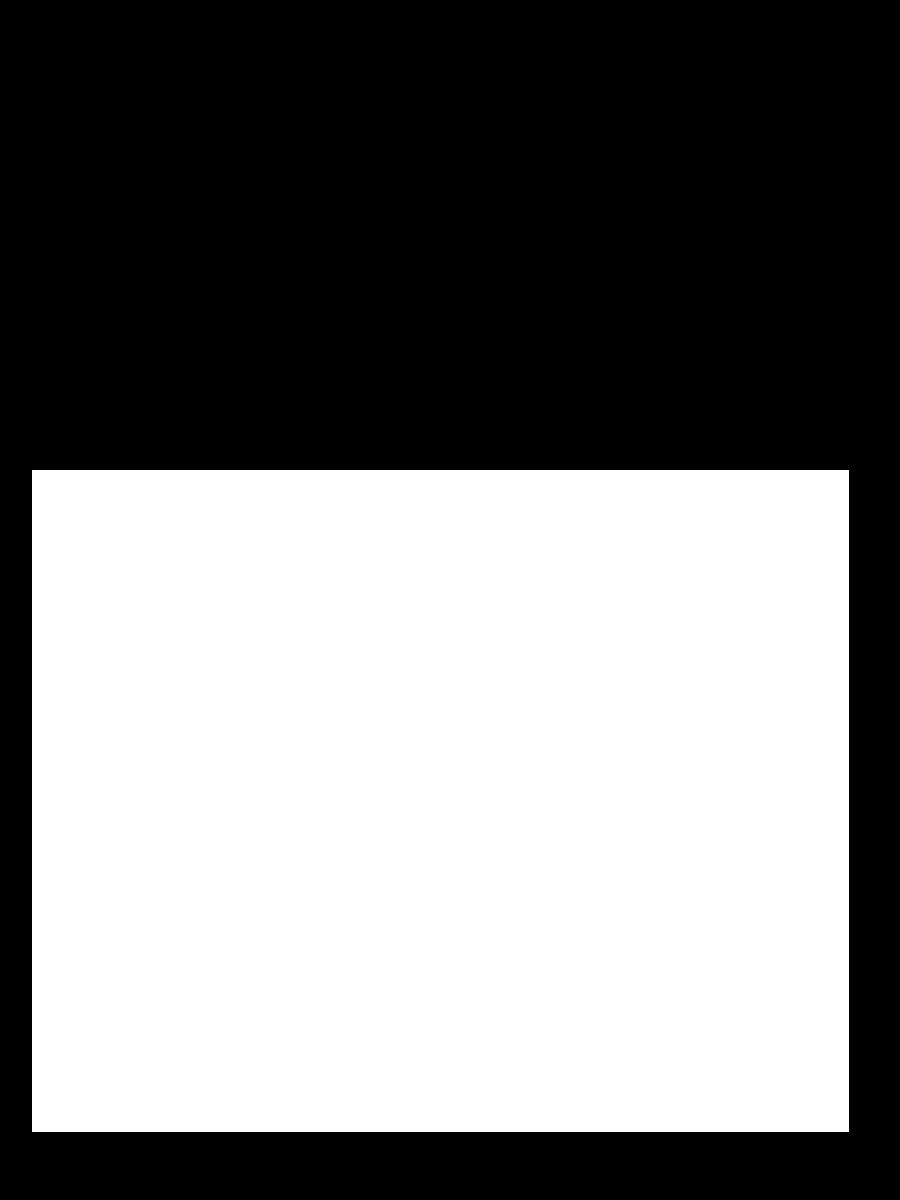table: (32, 470, 849, 1132)
